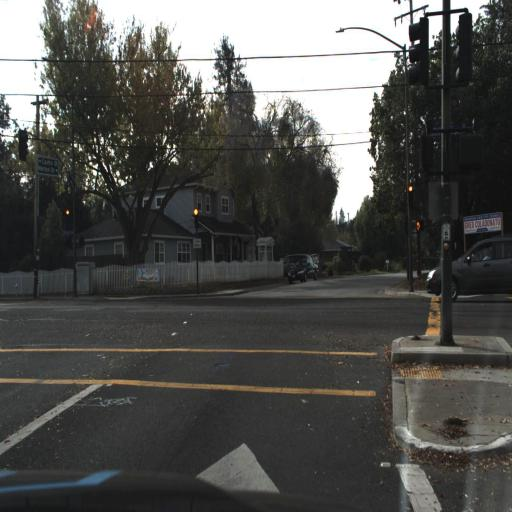car: (424, 230, 511, 311), (287, 258, 318, 284)
trafficLight: (193, 208, 199, 228)
trafficLight-Red: (406, 181, 414, 209), (65, 209, 70, 221)
